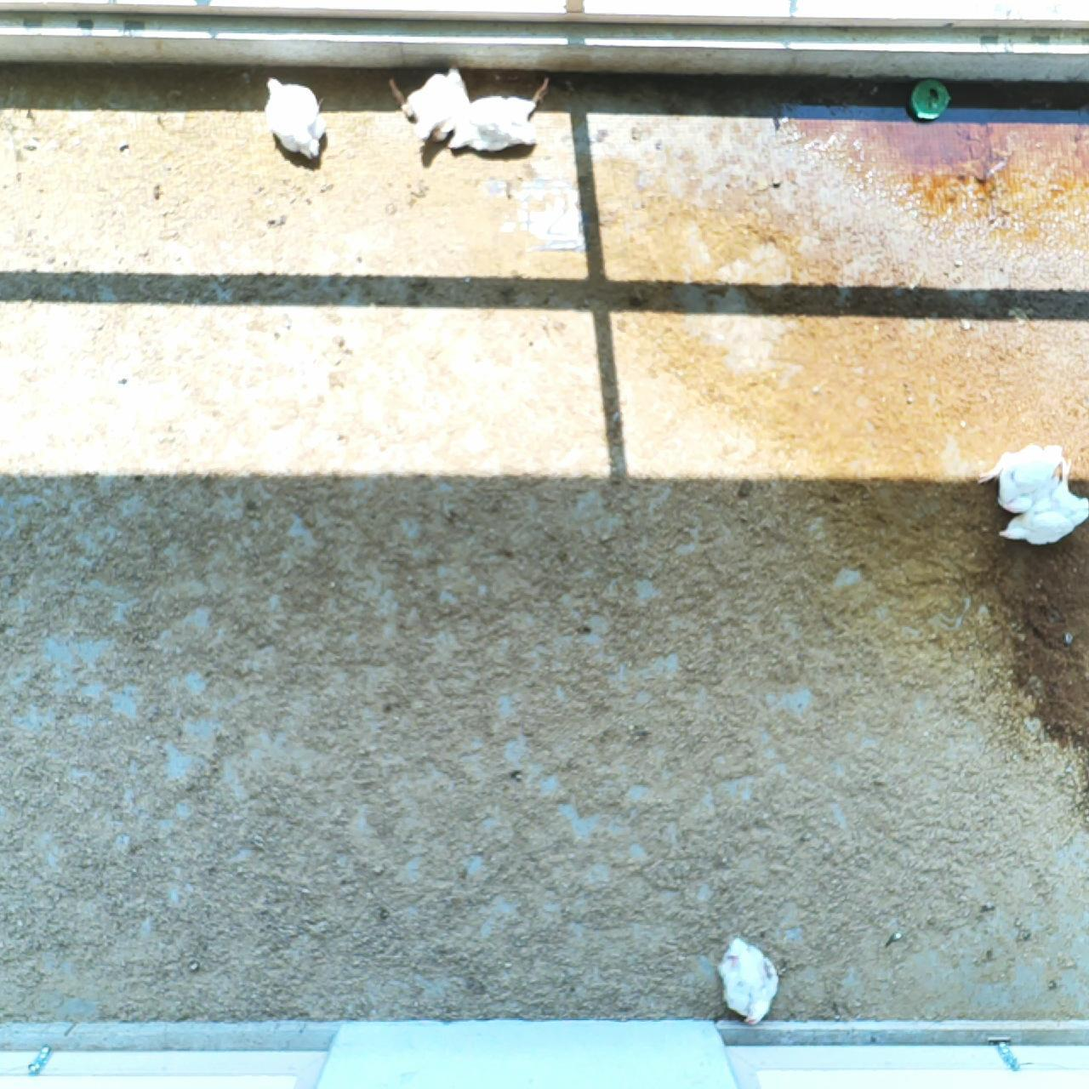chicken: (447, 75, 557, 152), (386, 66, 470, 145), (979, 444, 1064, 510), (263, 77, 328, 162), (717, 935, 776, 1024), (1011, 493, 1088, 544)
